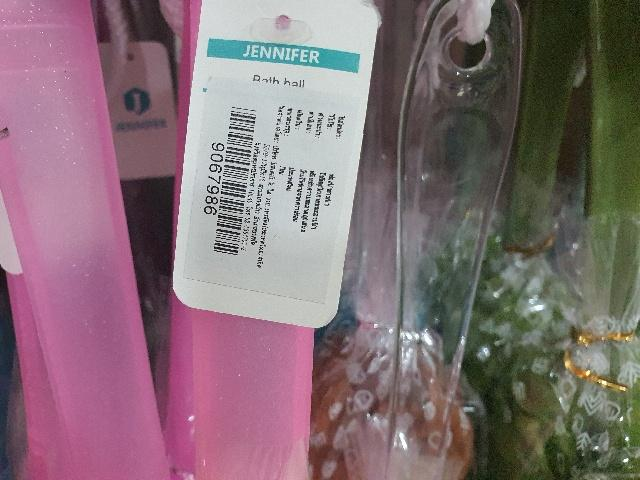Barcode: (199, 105, 263, 262)
